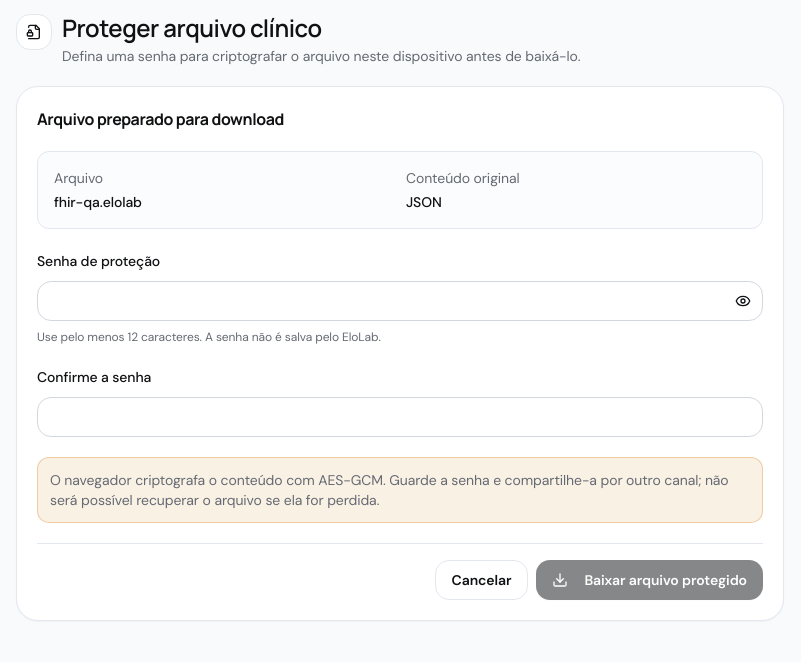
Test: ExportacaoClinicaProtegida › renders as a page, keeps the file context and blocks mismatched passwords
Expected: the text "fhir-qa.elolab" is shown, [54,193,142,211]
In the password field labelled "Senha de proteção": (400, 301) [37,281,763,321], type "SenhaMuitoSegura123"
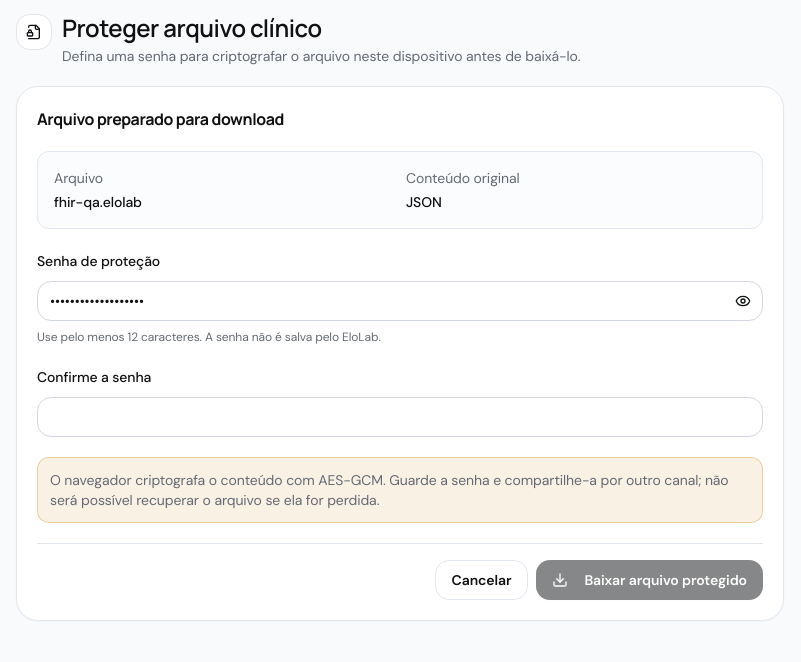
In the password field labelled "Confirme a senha": (400, 417) [37,397,763,437], type "SenhaDiferente123"
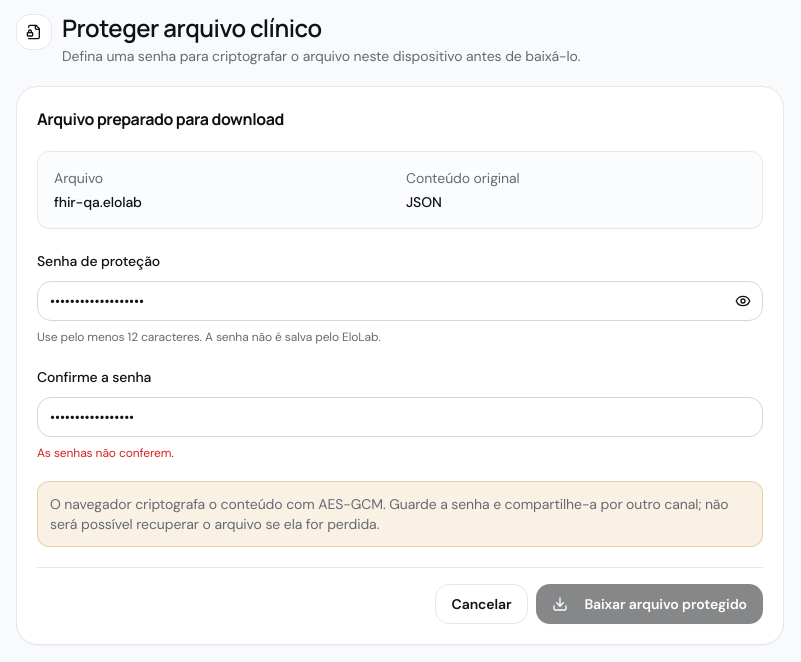
Expected: the button "Baixar arquivo protegido" is disabled, [536,584,763,624]
Result: the text "As senhas não conferem." is shown at [37,445,174,461]
